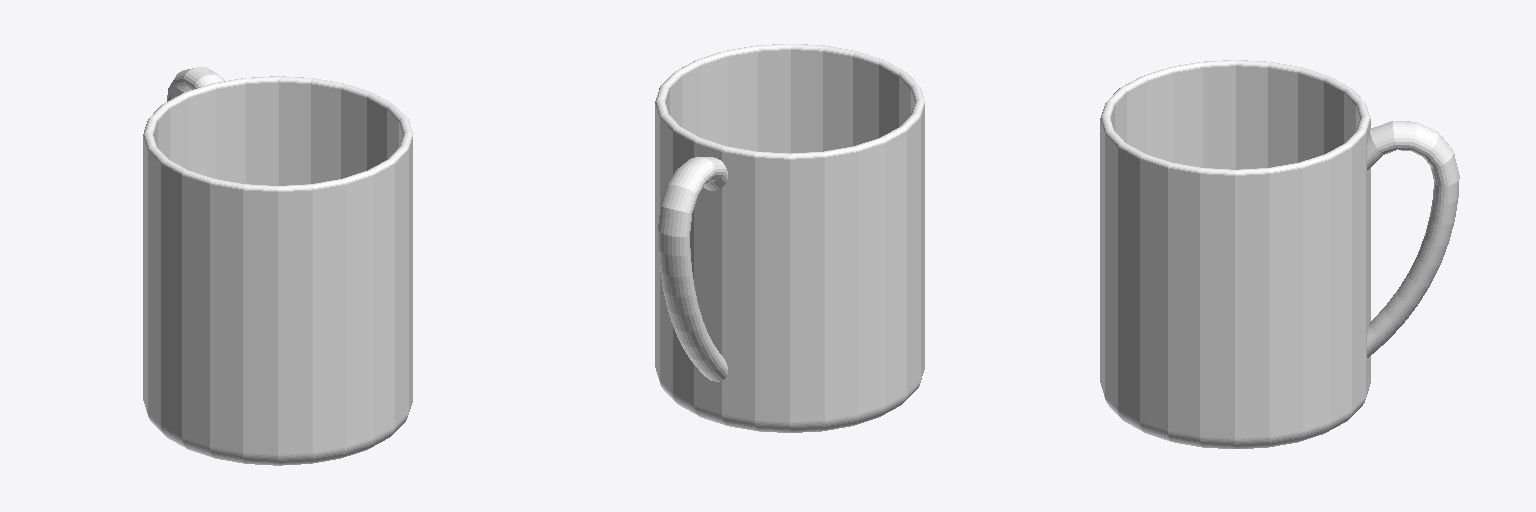
The picture shows the model from 3 angles: view 1: azimuth 30°, elevation 25°; view 2: azimuth 150°, elevation 25°; view 3: azimuth 270°, elevation 25°; orthographic projection.
Parts seen in each view (by area): view 1: model_normalized.003; view 2: model_normalized.003; view 3: model_normalized.003.
Part boxes in pixels (x1,y1,x2,y2): model_normalized.003: (143, 67, 412, 465); model_normalized.003: (655, 44, 924, 432); model_normalized.003: (1100, 60, 1459, 448).
Bounding box in the file's own units: 0.4947 × 0.5683 × 0.6575.